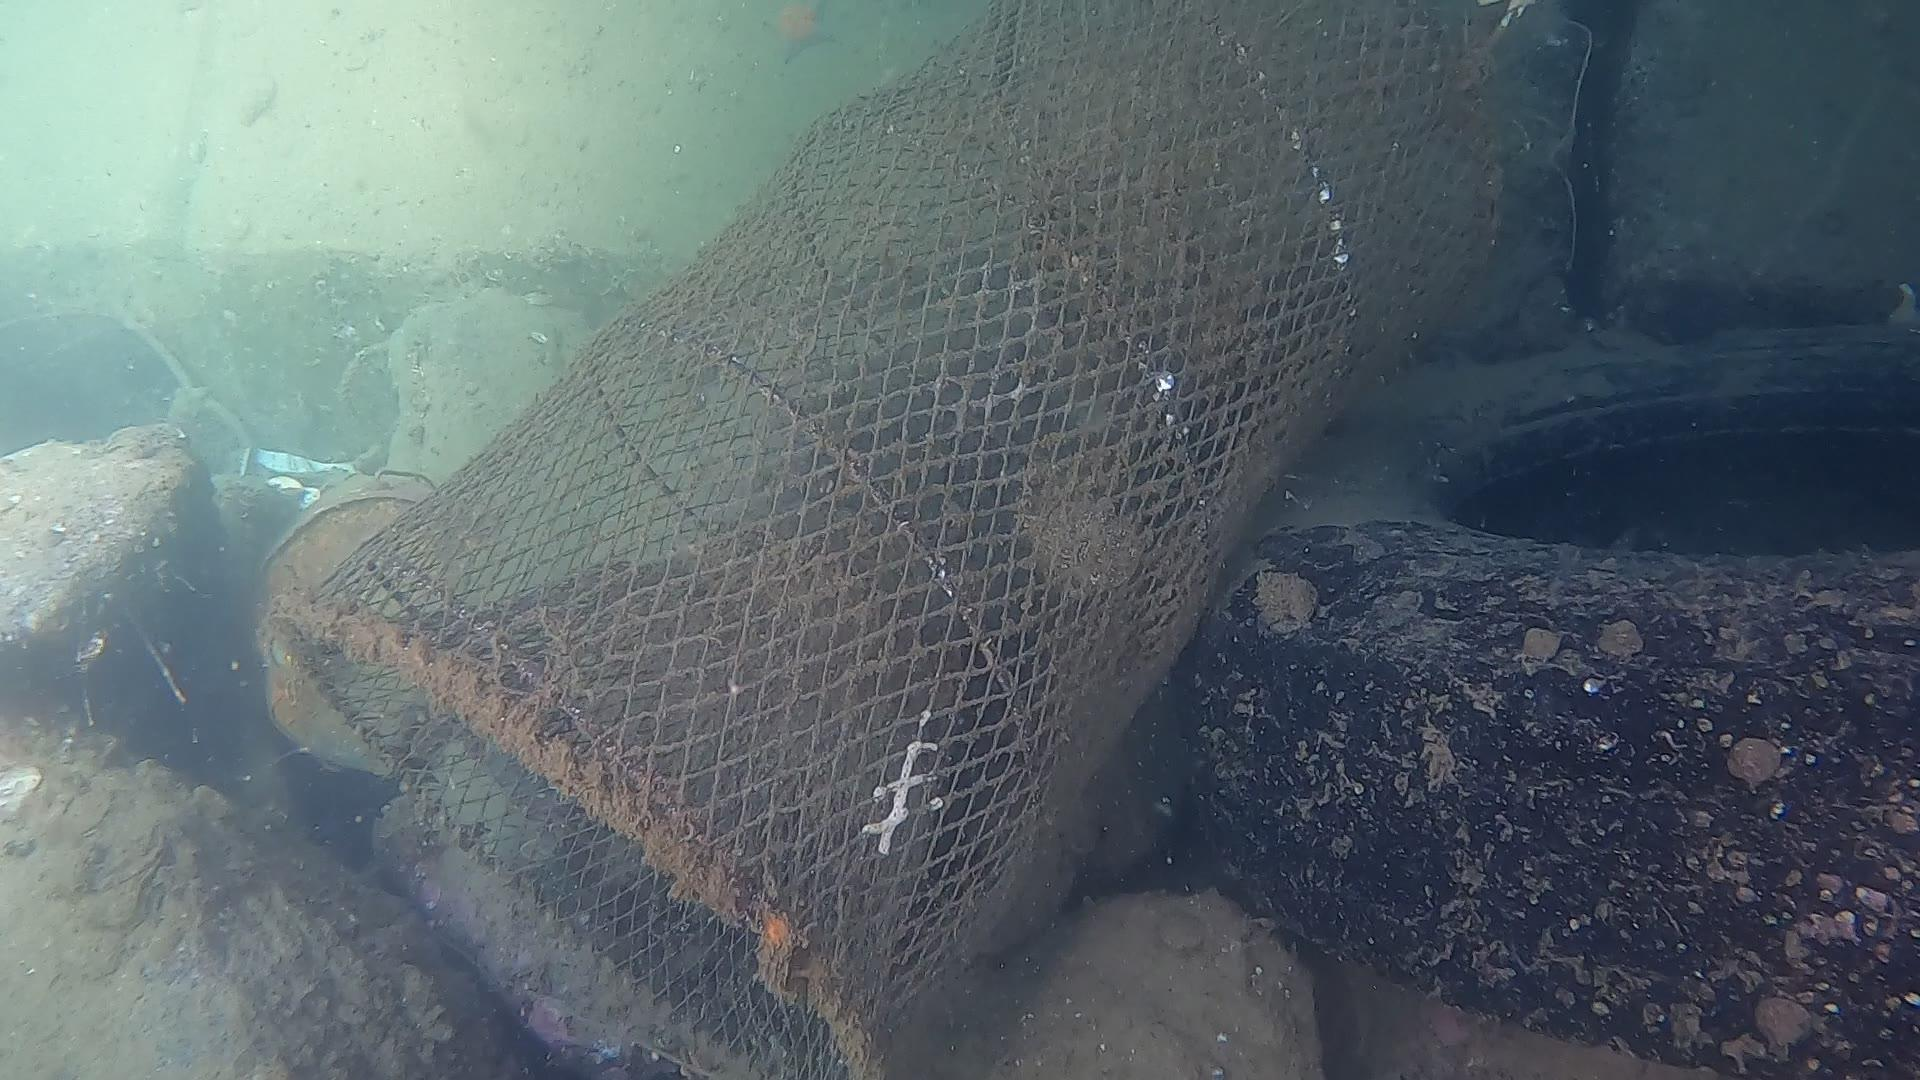spring fish trap: (266, 0, 1505, 1080)
tire: (1153, 320, 1920, 1080)
